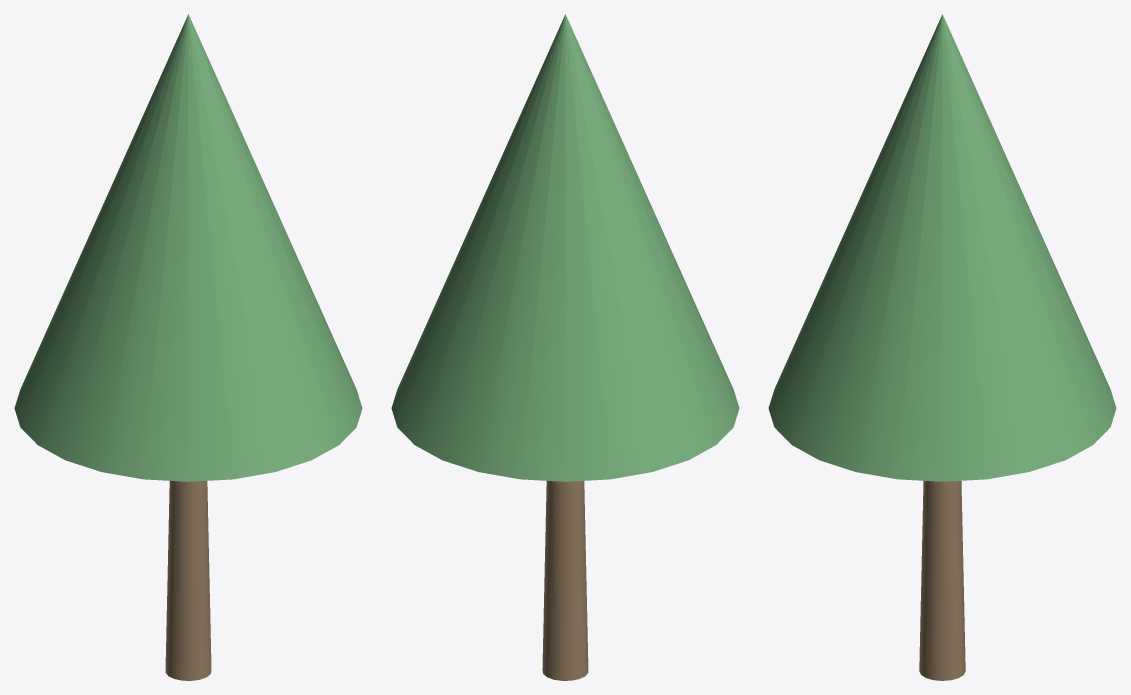
File: test-tree-draco.glb
3 renders of one model, left to right at view 1: azimuth 30°, elevation 25°; view 2: azimuth 150°, elevation 25°; view 3: azimuth 270°, elevation 25°, orthographic.
Parts seen in each view (by area): view 1: Crown, Trunk; view 2: Crown, Trunk; view 3: Crown, Trunk.
Part boxes in pixels (box(x1,y1,x2,y2)): Crown: box(14, 14, 362, 481); Trunk: box(165, 481, 211, 680); Crown: box(391, 14, 739, 481); Trunk: box(542, 481, 588, 680); Crown: box(768, 14, 1116, 481); Trunk: box(919, 480, 965, 680).
Bounding box in the file's own units: 2.4 × 5 × 2.4.
